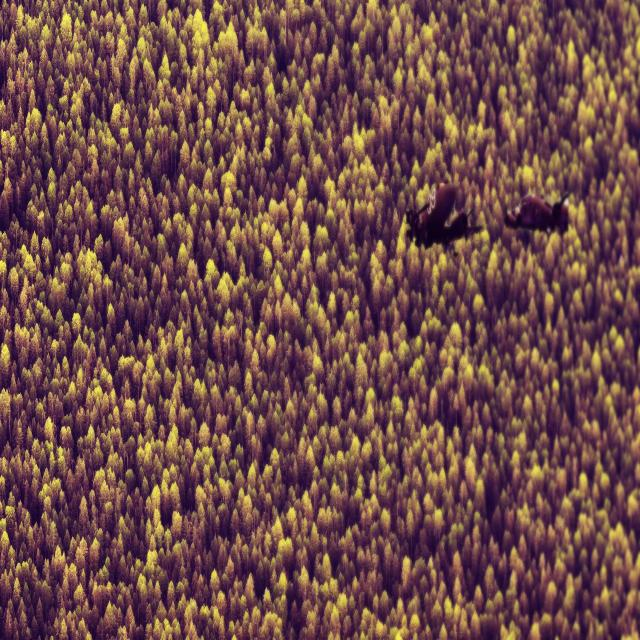airplane: (405, 180, 483, 251), (504, 190, 570, 236)
